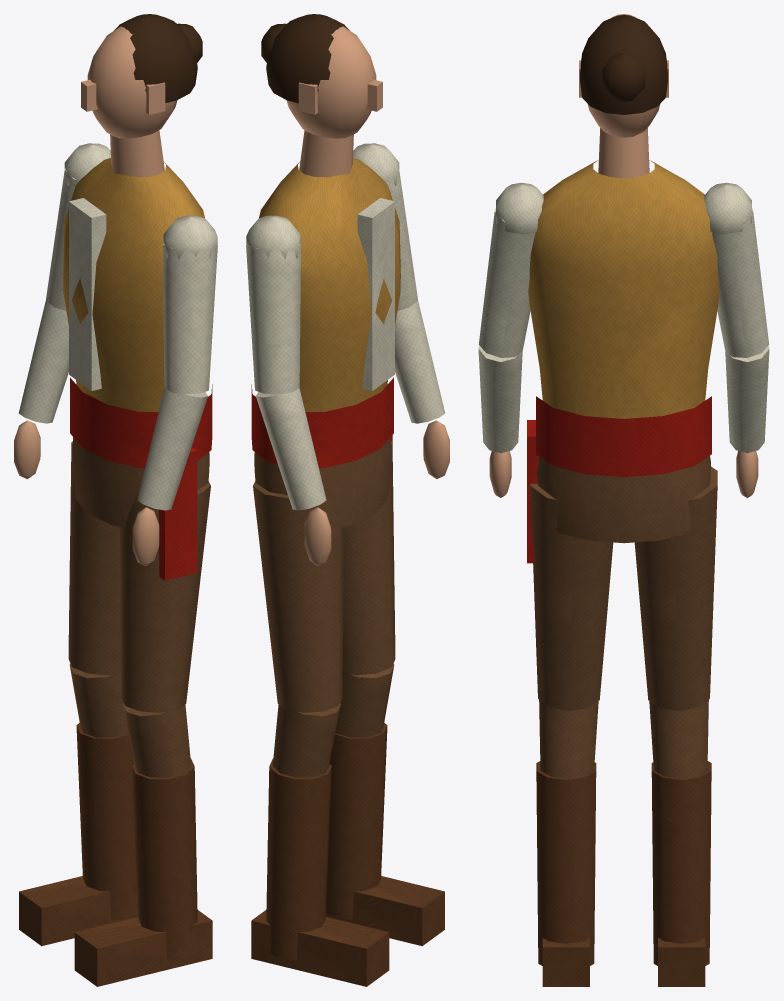
File: SM_Art_Figure_sailor_f.gltf
3 views of the same model, side by side, from view 1: azimuth 30°, elevation 25°; view 2: azimuth 150°, elevation 25°; view 3: azimuth 270°, elevation 25° (orthographic). The views are drawn at different scales.
Parts seen in each view (by area): view 1: SM_Art_Figure_sailor_f; view 2: SM_Art_Figure_sailor_f; view 3: SM_Art_Figure_sailor_f.
Boxes of the visible parts, x1=… form: SM_Art_Figure_sailor_f: x1=14, y1=14, x2=217, y2=986; SM_Art_Figure_sailor_f: x1=246, y1=14, x2=449, y2=986; SM_Art_Figure_sailor_f: x1=478, y1=14, x2=769, y2=986.
Size of the model in its own units: 0.2803 by 1.73 by 0.4785.
7 materials, 5 textured.
